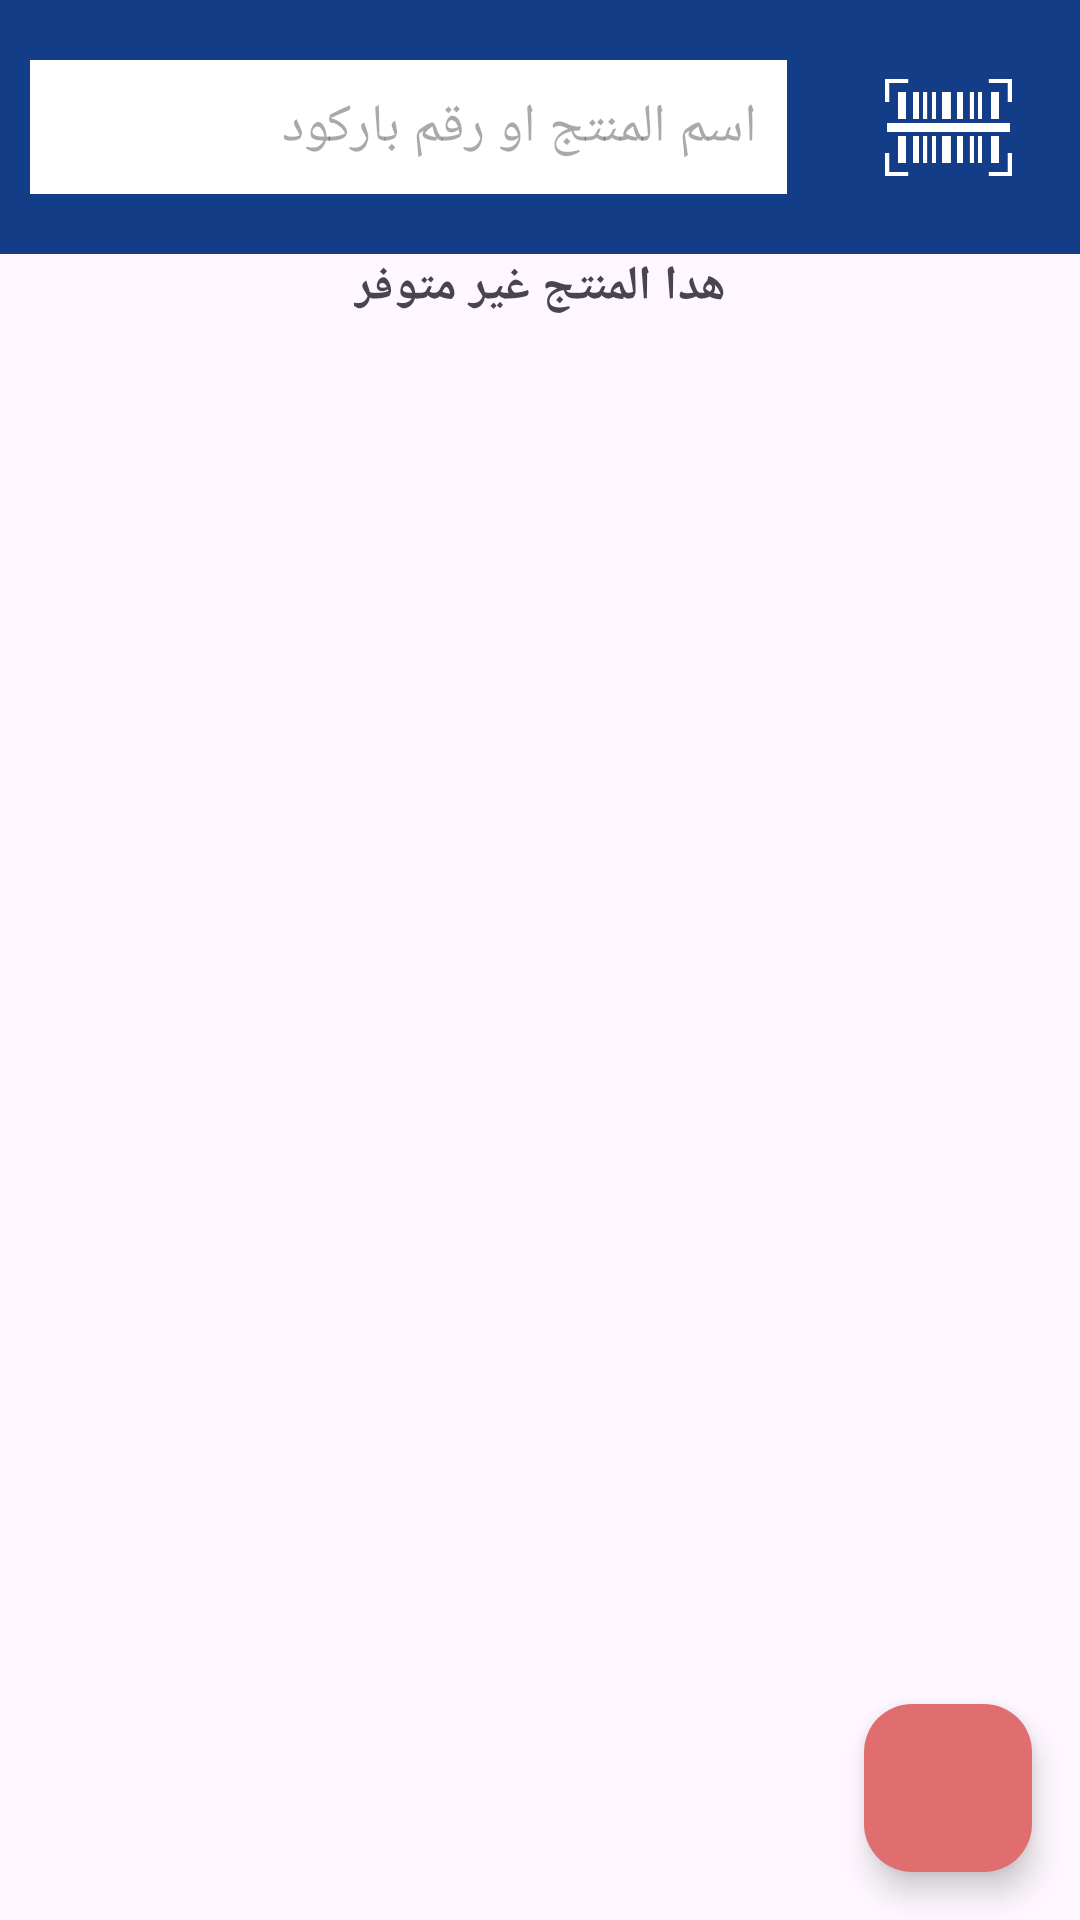

Point at icon controls on the screen. Image size 1080x1920, points as [x,y].
barcode scan: [948,127]
